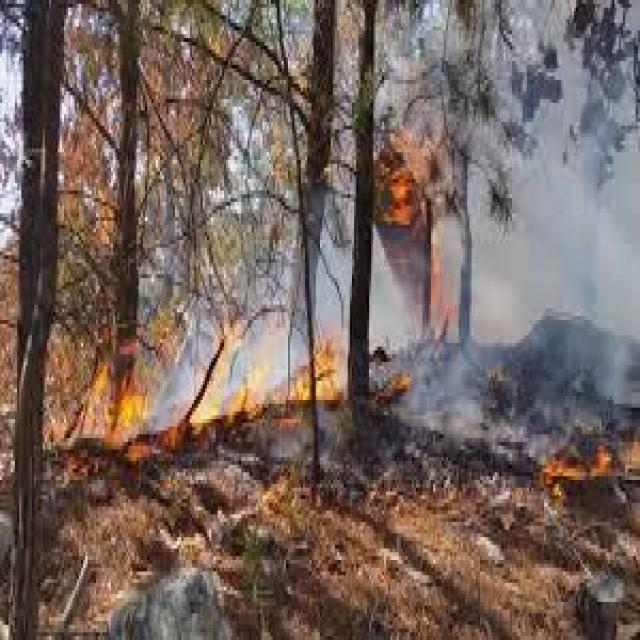Fire: (88, 314, 340, 445), (371, 126, 446, 337), (523, 422, 640, 489)
Smoke: (452, 116, 628, 439)
